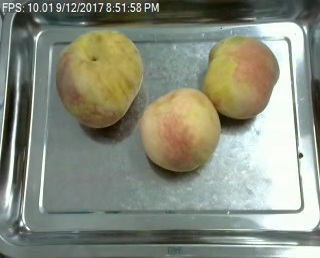Peach: (55, 29, 144, 127), (139, 87, 221, 172), (202, 35, 279, 118)
